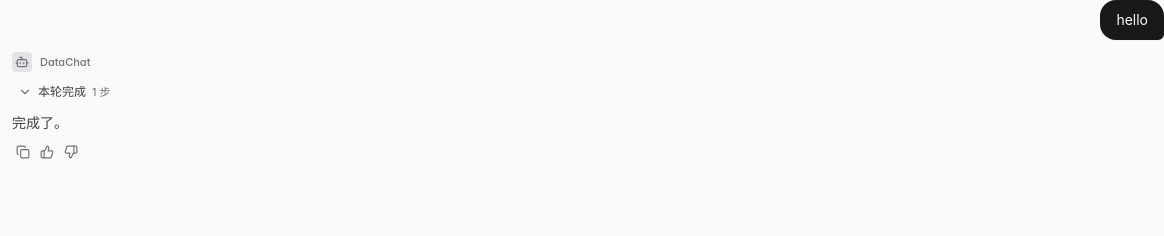
Test: MessageItem › shows the reasoning on its row and keeps the full transcript one click away
expect the text "先确认表结构" is not shown: met
Click the button "本轮完成 1 步".
click(64, 92)  # box [12,80,117,104]
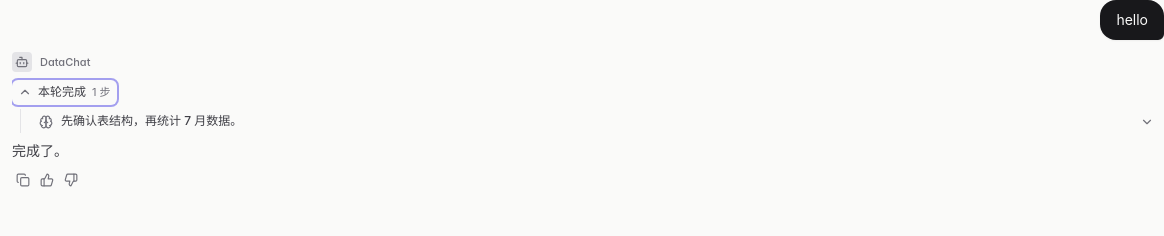
expect the list item with test id "trace-line" reads "先确认表结构，再统计 7 月数据。": met
Click the button "先确认表结构，再统计 7 月数据。".
click(152, 120)  # box [33,108,1160,132]
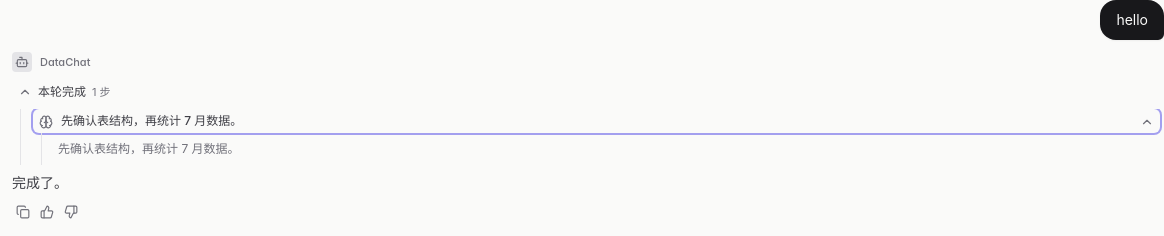
expect the text with test id "turn-thinking" reads "先确认表结构，再统计 7 月数据。": met, box [58,140,240,156]
